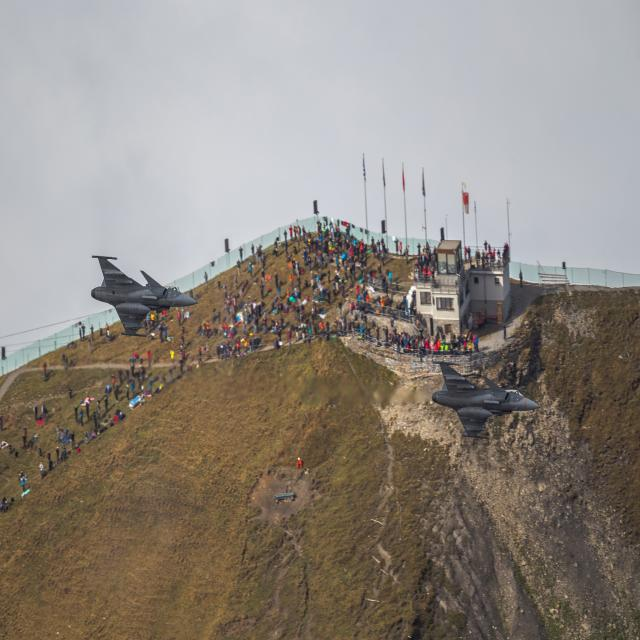MIL_Plane: (91, 255, 202, 337), (432, 361, 544, 438)
